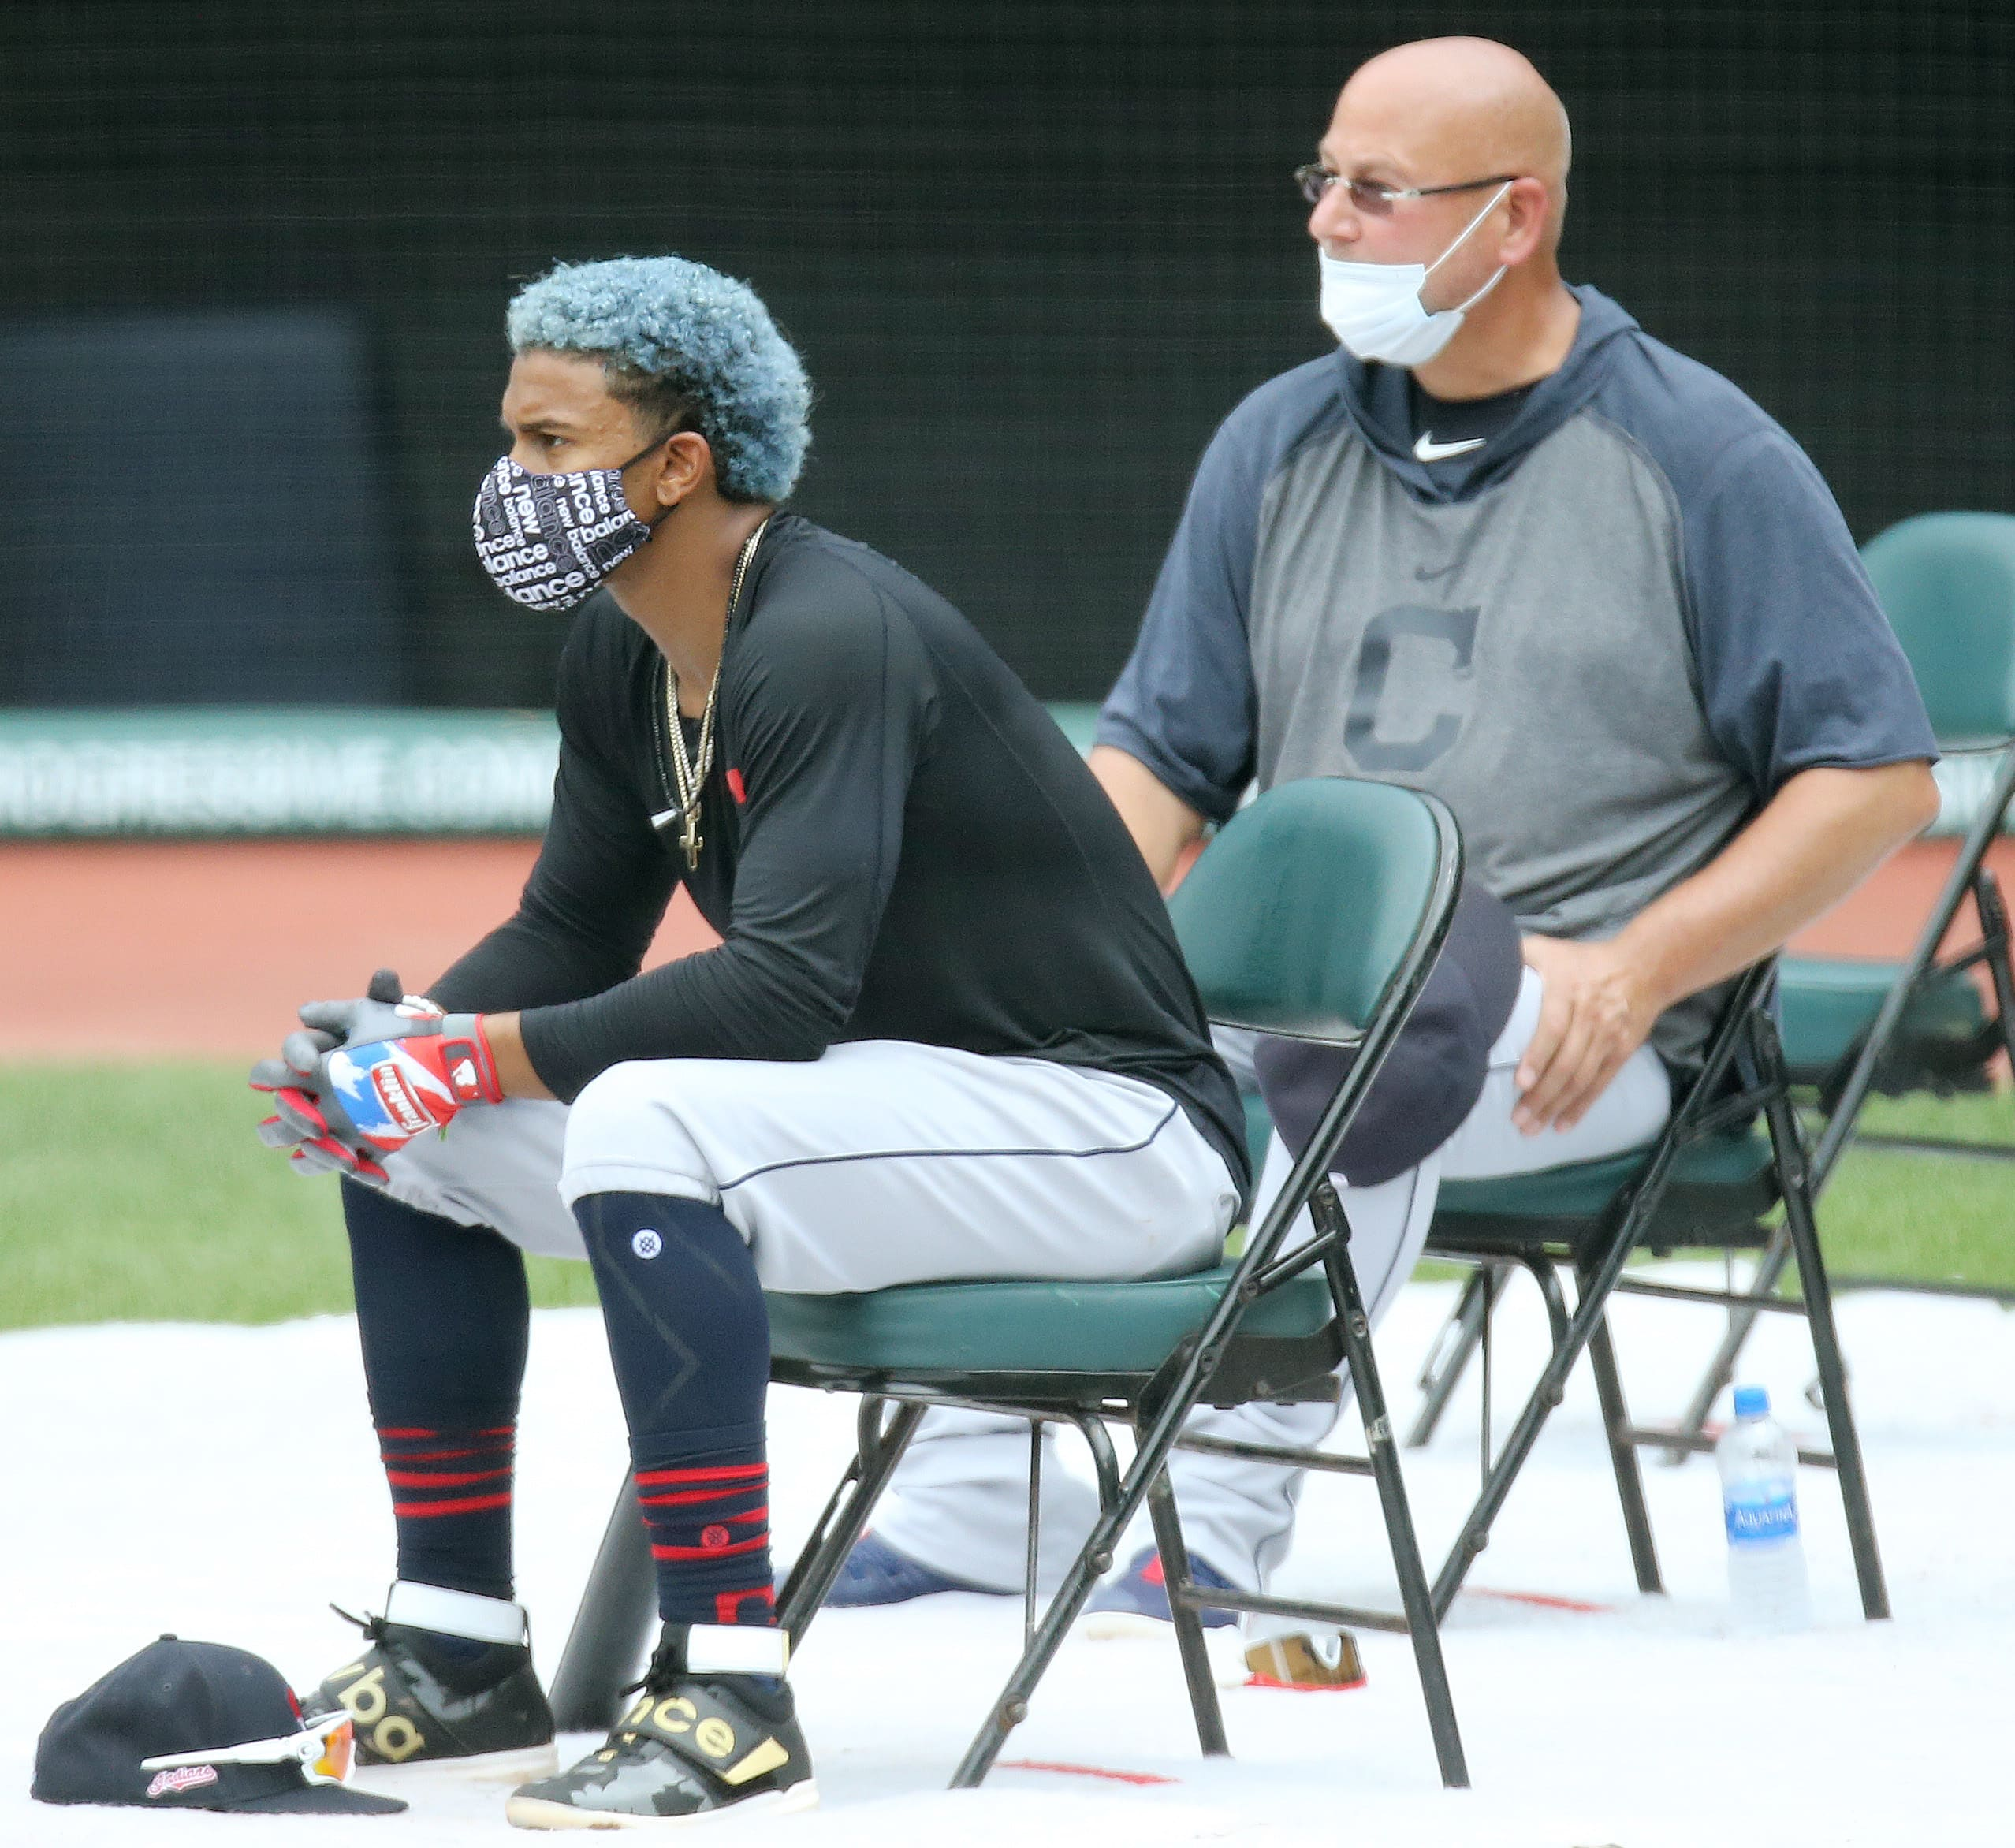mask_weared_incorrect: (1305, 91, 1510, 365)
with_mask: (468, 345, 689, 611)
